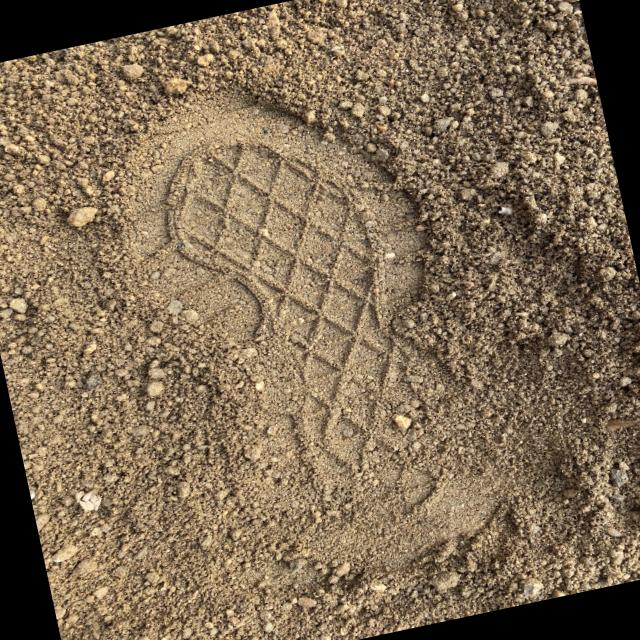human_foot_print: (101, 44, 498, 606)
